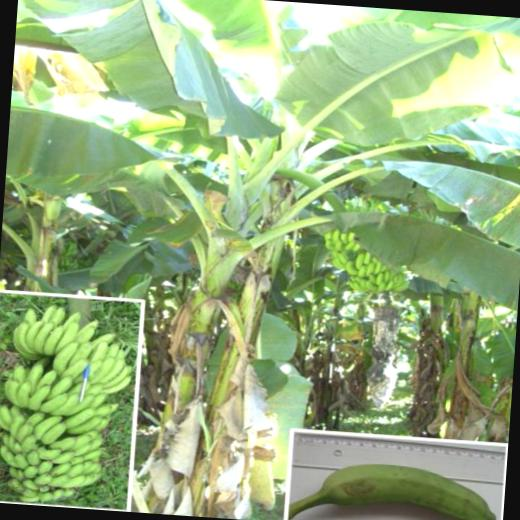Banana: (0, 287, 146, 510), (288, 456, 500, 520), (318, 192, 418, 296)
